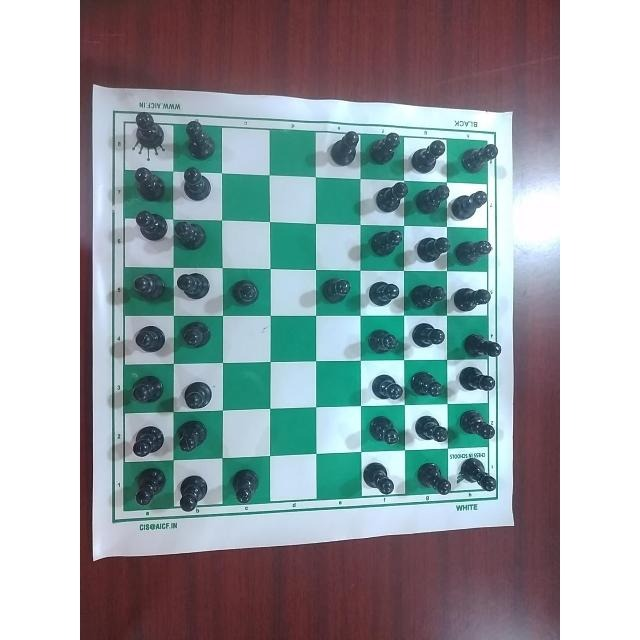black-pawn: (180, 119, 220, 161), (412, 459, 452, 499), (128, 466, 166, 507), (456, 407, 500, 442), (128, 111, 164, 153), (131, 163, 167, 204), (360, 457, 396, 498), (450, 279, 493, 313), (127, 422, 165, 460), (368, 180, 408, 216), (128, 270, 168, 306), (408, 414, 448, 450), (366, 129, 402, 168), (457, 141, 496, 177), (366, 410, 402, 449), (456, 362, 496, 397), (459, 458, 500, 492), (176, 474, 208, 516), (410, 135, 446, 172), (408, 278, 445, 314), (130, 321, 167, 357), (325, 128, 359, 167), (127, 373, 166, 407), (179, 166, 215, 202), (451, 190, 487, 226), (178, 317, 214, 353), (176, 271, 216, 303), (413, 183, 449, 218), (408, 368, 445, 402), (364, 226, 402, 259), (229, 467, 262, 505), (411, 230, 450, 262), (176, 416, 208, 455), (178, 375, 214, 409), (368, 368, 404, 402), (408, 319, 447, 350), (462, 330, 502, 360), (363, 276, 398, 310), (133, 208, 167, 242), (319, 273, 352, 308), (227, 275, 260, 309), (174, 221, 209, 253), (455, 236, 492, 266), (364, 324, 399, 354)
